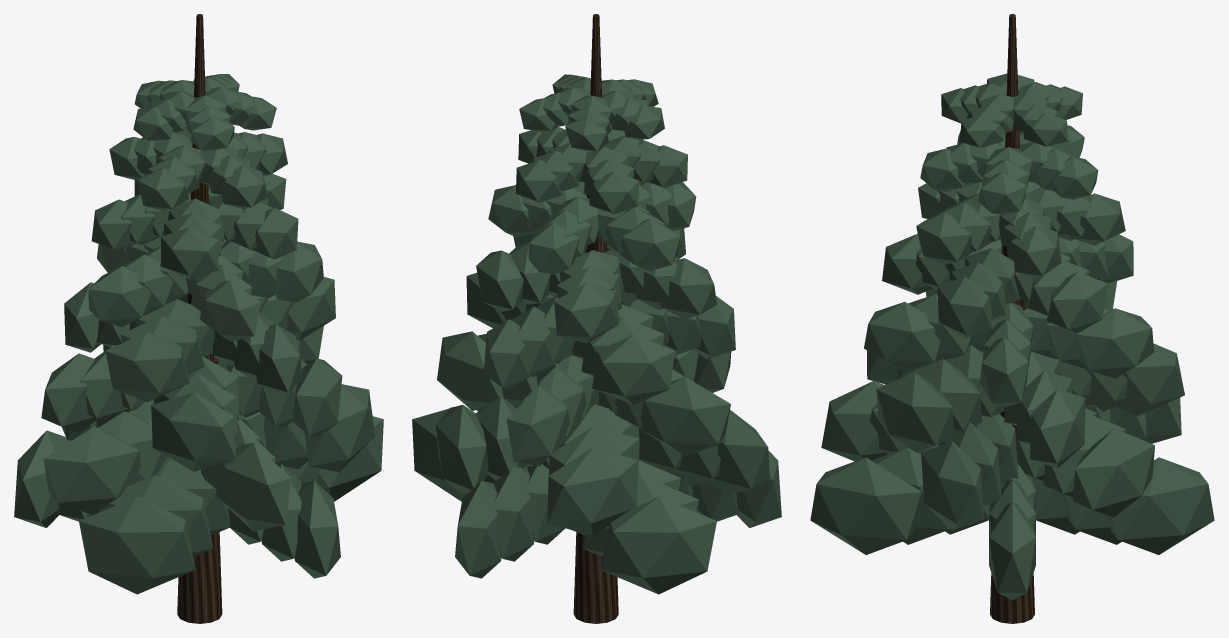
The model's file is forest_pine.glb.
The picture shows the model from 3 angles, left to right: view 1: azimuth 30°, elevation 25°; view 2: azimuth 150°, elevation 25°; view 3: azimuth 270°, elevation 25°; orthographic projection.
Visible parts, largest first — view 1: forest_pine; view 2: forest_pine; view 3: forest_pine.
Boxes of the visible parts, x1,y1,x2,y2 form: forest_pine: (14, 14, 383, 623); forest_pine: (412, 14, 781, 623); forest_pine: (810, 14, 1214, 623).
Bounding box in the file's own units: 5.52 × 9.08 × 5.55.
2 materials, 1 textured.
